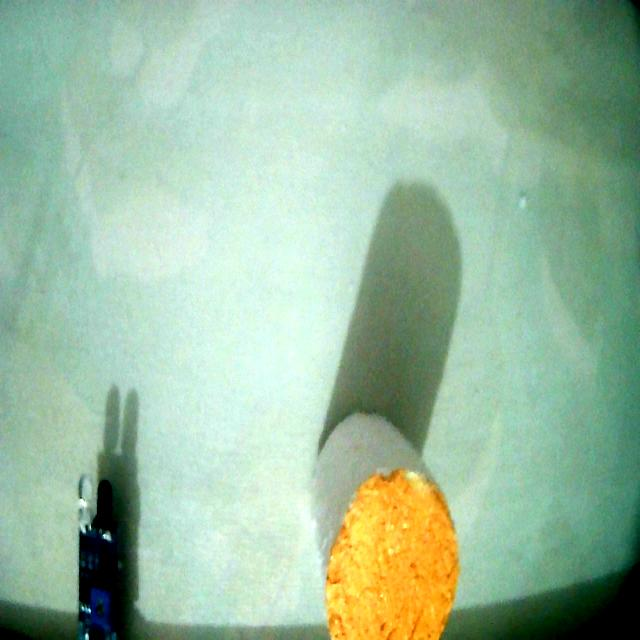yellow: (326, 468, 458, 639)
